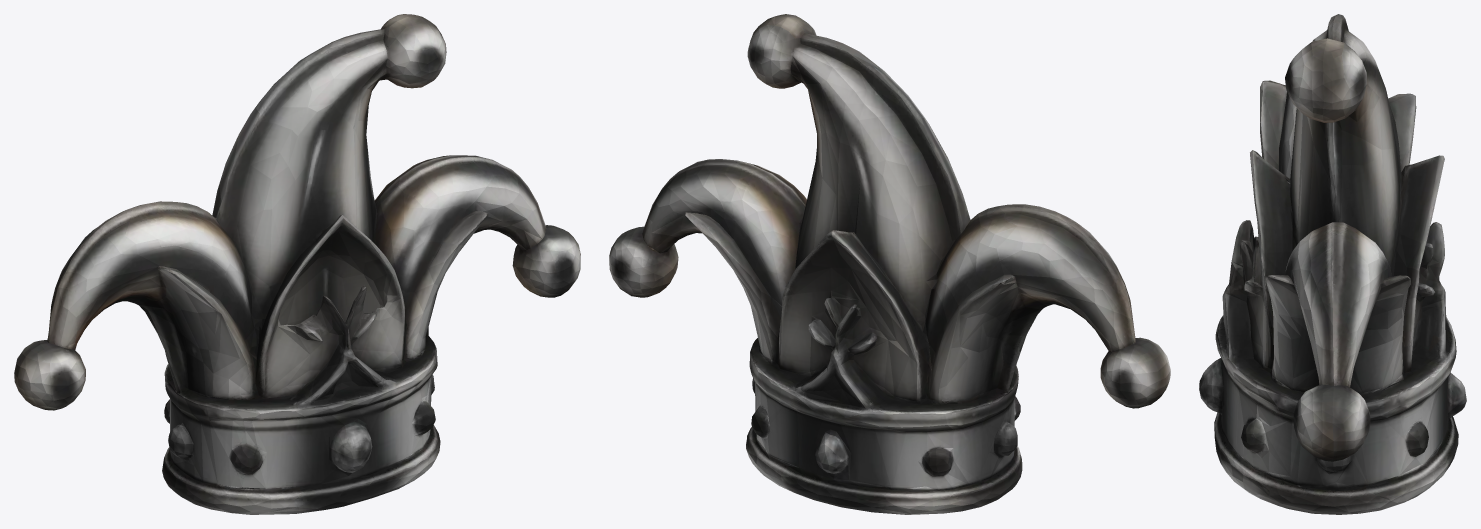
File: jester-hat.glb
3 views of the same model, side by side, from view 1: azimuth 30°, elevation 25°; view 2: azimuth 150°, elevation 25°; view 3: azimuth 270°, elevation 25° (orthographic). The views are drawn at different scales.
Visible parts, largest first — view 1: world; view 2: world; view 3: world.
Boxes of the visible parts, <box> form: world: <box>14,14,580,514</box>; world: <box>609,14,1170,514</box>; world: <box>1199,14,1466,514</box>.
Size of the model in its own units: 0.9982 by 0.7307 by 0.3815.
1 material, 1 textured.
